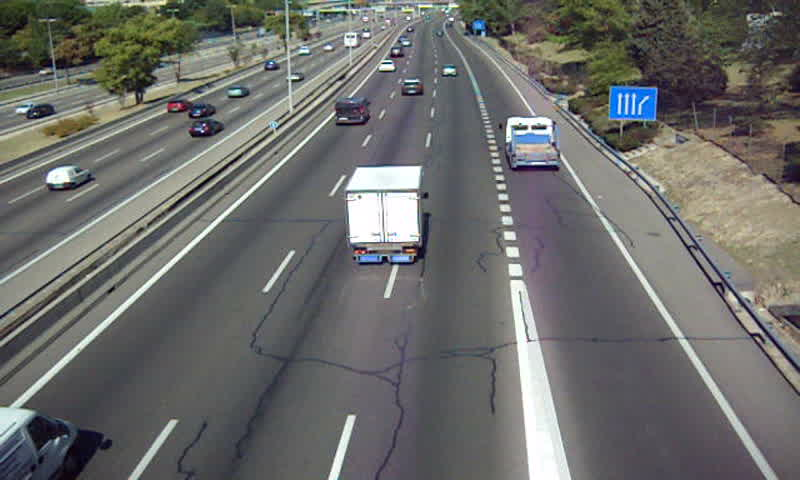car: (399, 78, 425, 99), (377, 58, 396, 74), (442, 63, 458, 76)
small-truck: (346, 165, 427, 266), (502, 116, 560, 167)
van: (334, 98, 368, 125)
